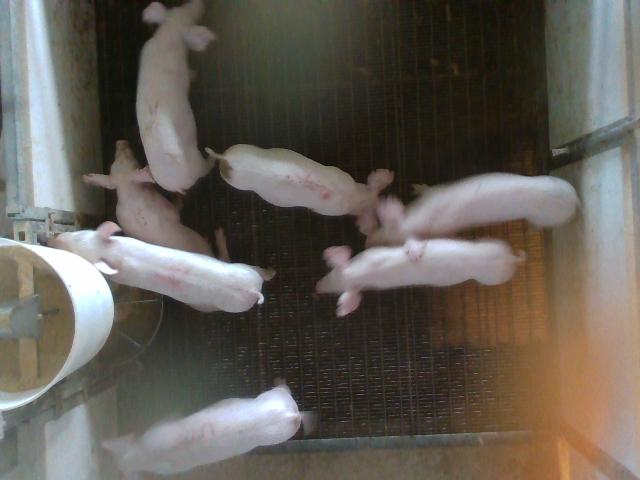pig-3: (102, 385, 302, 474)
pig-4: (49, 221, 274, 312)
pig-5: (206, 144, 392, 234)
